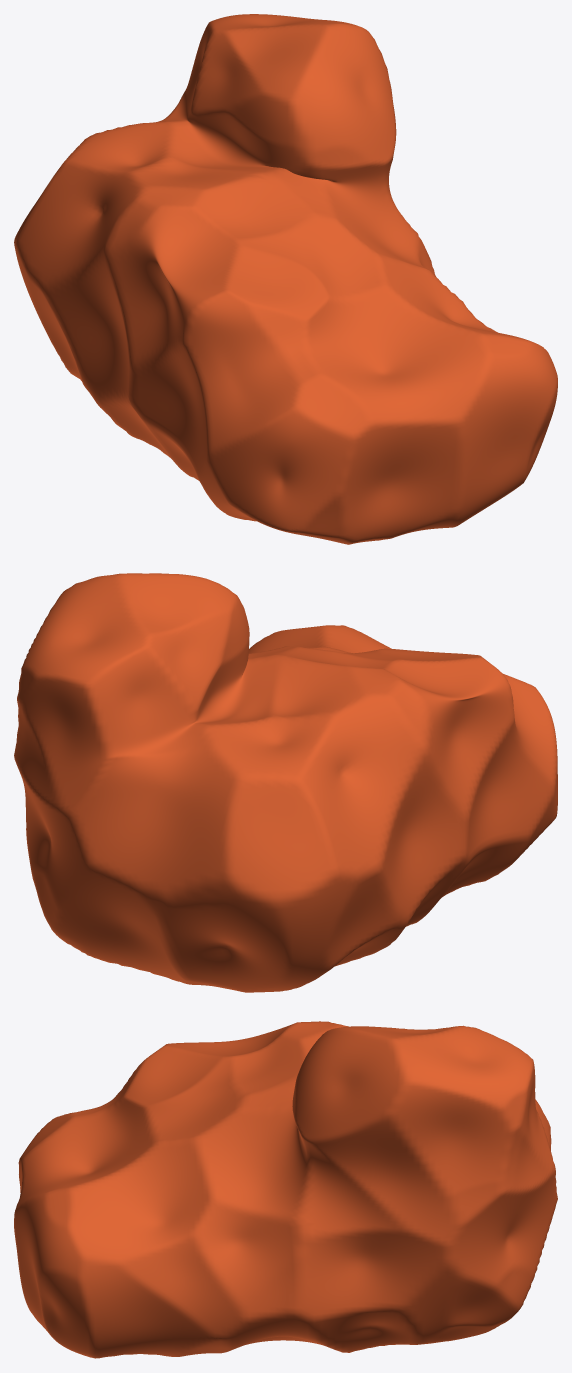
File: SaltRock.fbx
3 views of the same model, one above another, from view 1: azimuth 30°, elevation 25°; view 2: azimuth 150°, elevation 25°; view 3: azimuth 270°, elevation 25° (orthographic). The views are drawn at different scales.
Parts seen in each view (by area): view 1: Cube; view 2: Cube; view 3: Cube.
Part boxes in pixels (box(x1,y1,x2,y2)): Cube: box(14, 14, 557, 544); Cube: box(14, 573, 557, 992); Cube: box(14, 1021, 557, 1358).
Bounding box in the file's own units: 667 × 692 × 1026.
